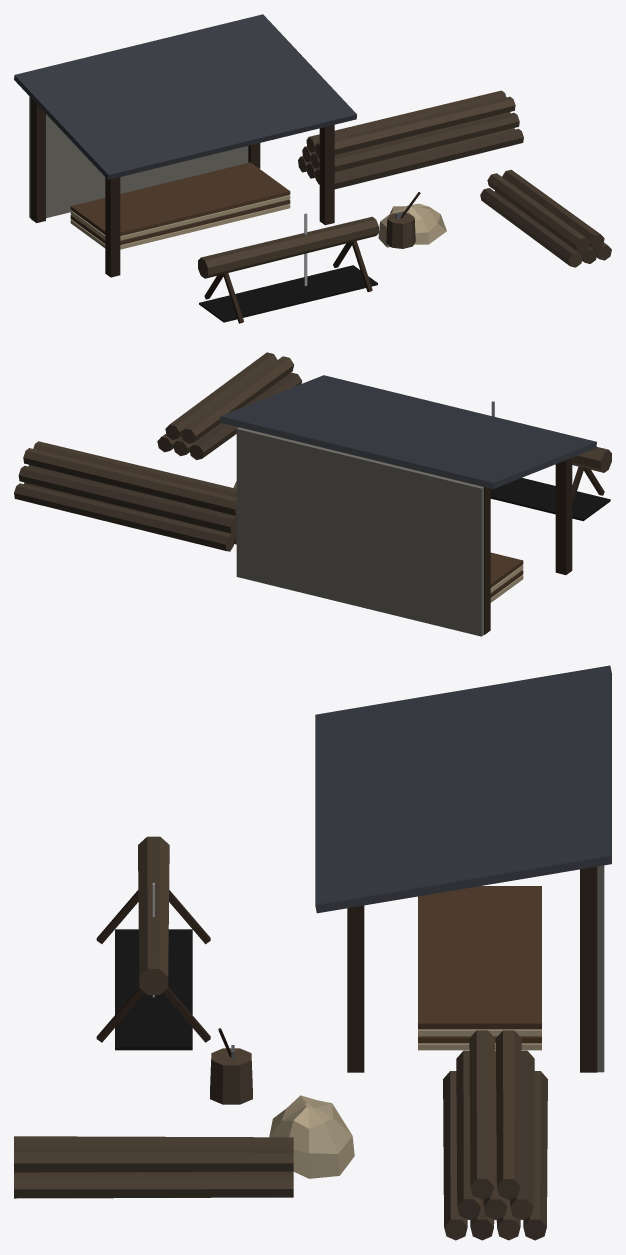
Rendered from walk_freehold_lumber.glb.
3 renders of one model, top to bottom at view 1: azimuth 30°, elevation 25°; view 2: azimuth 150°, elevation 25°; view 3: azimuth 270°, elevation 25°, orthographic. The views are drawn at different scales.
Parts seen in each view (by area): view 1: walk_freehold_lumber, walk_freehold_lumber_roof; view 2: walk_freehold_lumber, walk_freehold_lumber_roof; view 3: walk_freehold_lumber, walk_freehold_lumber_roof.
Part boxes in pixels (x1,y1,x2,y2): walk_freehold_lumber: [29, 90, 611, 323]; walk_freehold_lumber_roof: [14, 14, 356, 179]; walk_freehold_lumber: [14, 352, 611, 636]; walk_freehold_lumber_roof: [219, 375, 596, 488]; walk_freehold_lumber: [14, 836, 604, 1240]; walk_freehold_lumber_roof: [315, 665, 611, 913].
Size of what is drawn, in the model's own units: 10.65 by 3.69 by 7.7.
2 materials, 2 textured.
